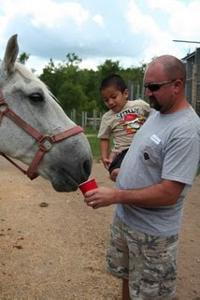person: (85, 55, 200, 300)
